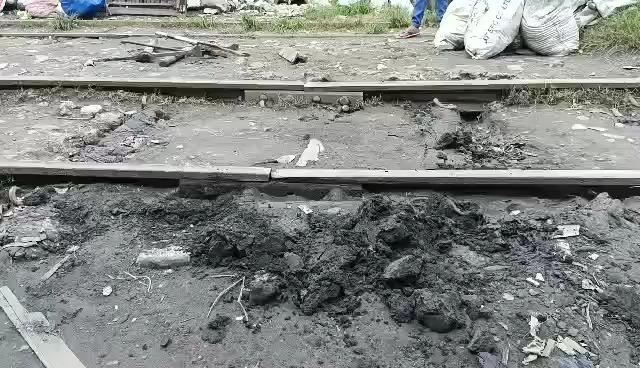railway-gap: (255, 157, 291, 194), (290, 74, 316, 97)
